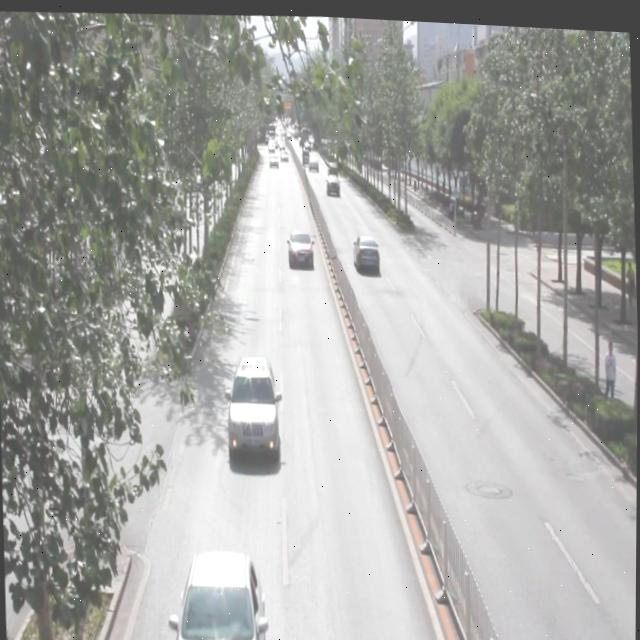car: (170, 546, 267, 640), (226, 350, 282, 457), (353, 227, 381, 272), (286, 225, 314, 267), (323, 171, 340, 192), (308, 150, 320, 168), (326, 157, 338, 175), (267, 148, 278, 167), (279, 144, 289, 159)
truck: (300, 144, 310, 161)
